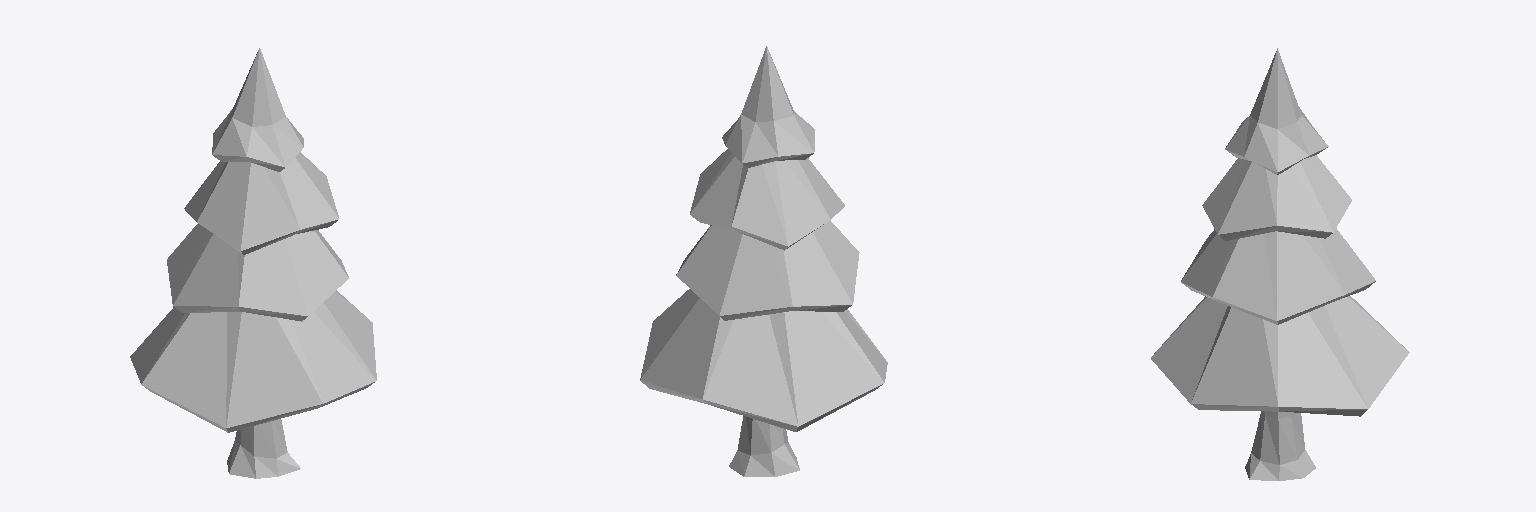
The model's file is tree.obj.
3 views of the same model, side by side, from view 1: azimuth 30°, elevation 25°; view 2: azimuth 150°, elevation 25°; view 3: azimuth 270°, elevation 25° (orthographic).
Visible parts, largest first — view 1: Tree_Spruce_small_01_Cylinder_016; view 2: Tree_Spruce_small_01_Cylinder_016; view 3: Tree_Spruce_small_01_Cylinder_016.
Boxes of the visible parts, box(x1,y1,x2,y2) form: Tree_Spruce_small_01_Cylinder_016: box(130, 48, 376, 478); Tree_Spruce_small_01_Cylinder_016: box(640, 46, 887, 476); Tree_Spruce_small_01_Cylinder_016: box(1151, 48, 1409, 480).
Size of the model in its own units: 10.58 by 18.26 by 10.26.